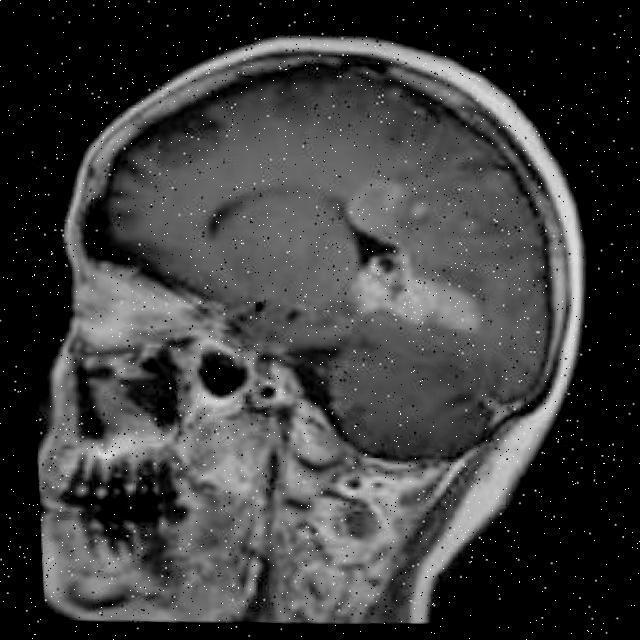LMCI: (303, 160, 456, 316)
